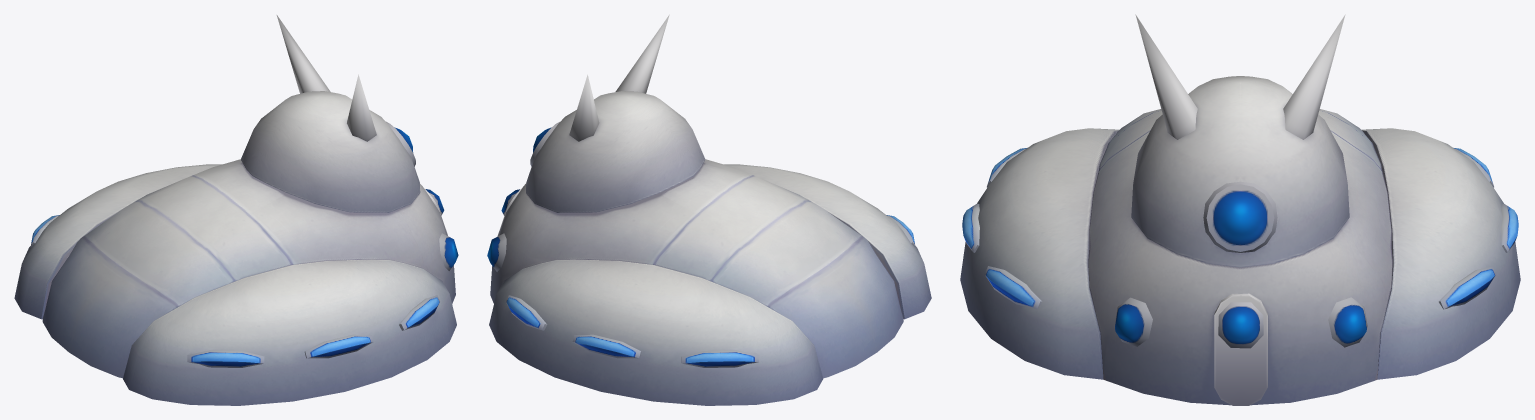
File: nameikexing_jianzhu_04.FBX
The picture shows the model from 3 angles, left to right: view 1: azimuth 30°, elevation 25°; view 2: azimuth 150°, elevation 25°; view 3: azimuth 270°, elevation 25°; orthographic projection. The views are drawn at different scales.
Visible parts, largest first — view 1: nameikexing_jianzhu1_04; view 2: nameikexing_jianzhu1_04; view 3: nameikexing_jianzhu1_04.
Boxes of the visible parts, x1,y1,x2,y2 form: nameikexing_jianzhu1_04: [14, 15, 458, 405]; nameikexing_jianzhu1_04: [487, 14, 931, 405]; nameikexing_jianzhu1_04: [960, 14, 1520, 405].
Size of the model in its own units: 1333 by 850 by 1362.
